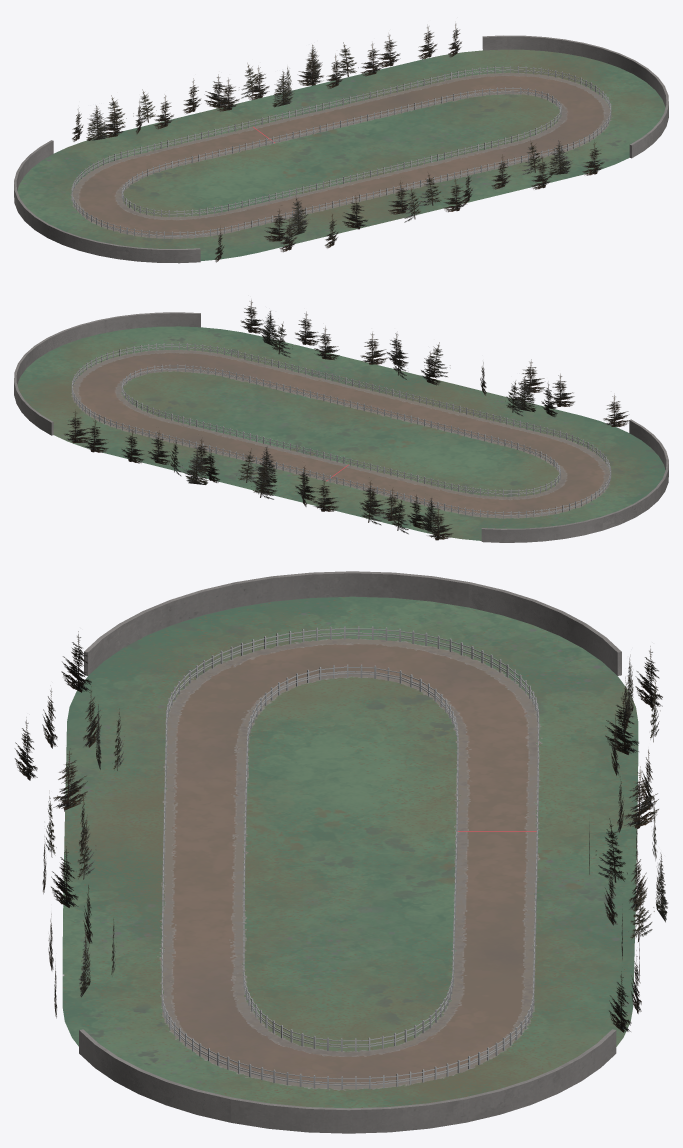
Rendered from track.glb.
3 views of the same model, one above another, from view 1: azimuth 30°, elevation 25°; view 2: azimuth 150°, elevation 25°; view 3: azimuth 270°, elevation 25° (orthographic). The views are drawn at different scales.
Visible parts, largest first — view 1: ground, tree_card.038, outerFence, innerFence, ground.003, ground.002; view 2: ground, tree_card.038, outerFence, innerFence, ground.002, ground.003; view 3: ground, ground.002, ground.003, tree_card.038, outerFence, innerFence.
Part boxes in pixels (x1,y1,x2,y2): ground: (17, 49, 665, 260); tree_card.038: (72, 23, 604, 262); outerFence: (71, 66, 611, 238); innerFence: (121, 87, 561, 217); ground.003: (482, 35, 668, 158); ground.002: (14, 140, 200, 263); ground: (17, 326, 665, 540); tree_card.038: (64, 300, 629, 540); outerFence: (71, 342, 611, 518); innerFence: (121, 364, 560, 496); ground.002: (481, 419, 668, 542); ground.003: (14, 312, 200, 435); ground: (62, 596, 638, 1108); ground.002: (84, 571, 621, 675); ground.003: (79, 1029, 616, 1133); tree_card.038: (14, 631, 668, 1032); outerFence: (161, 626, 539, 1089); innerFence: (243, 664, 458, 1051).
Size of the model in its own units: 273 by 15.91 by 140.
Materials: 4 (2 with a texture image).
